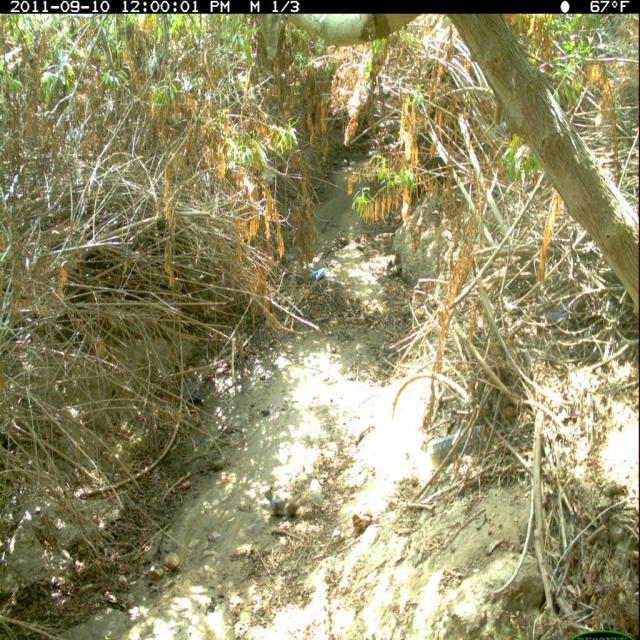squirrel: (263, 484, 328, 524)
